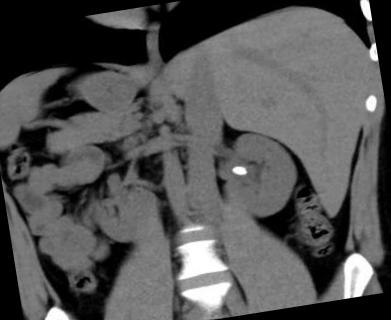Tas_Var: (230, 162, 247, 178)
